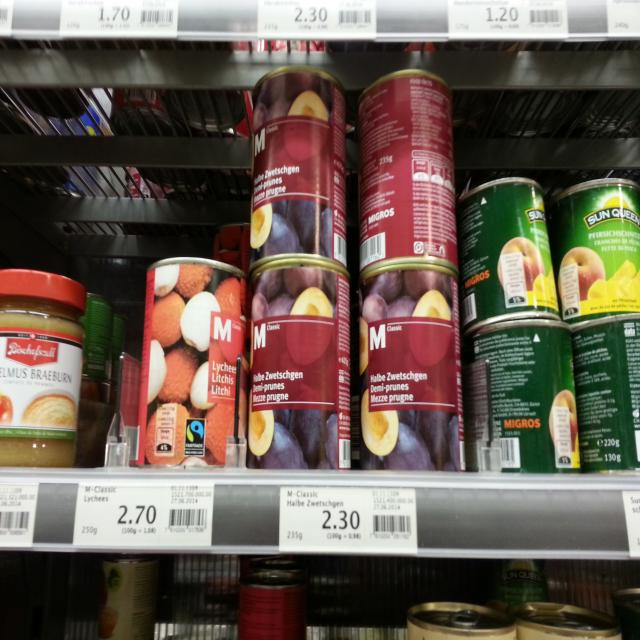Canned: (130, 254, 252, 472), (352, 257, 468, 476), (244, 260, 352, 473), (358, 64, 462, 278), (248, 68, 350, 271), (466, 317, 583, 481), (465, 172, 561, 322), (551, 173, 640, 323)
